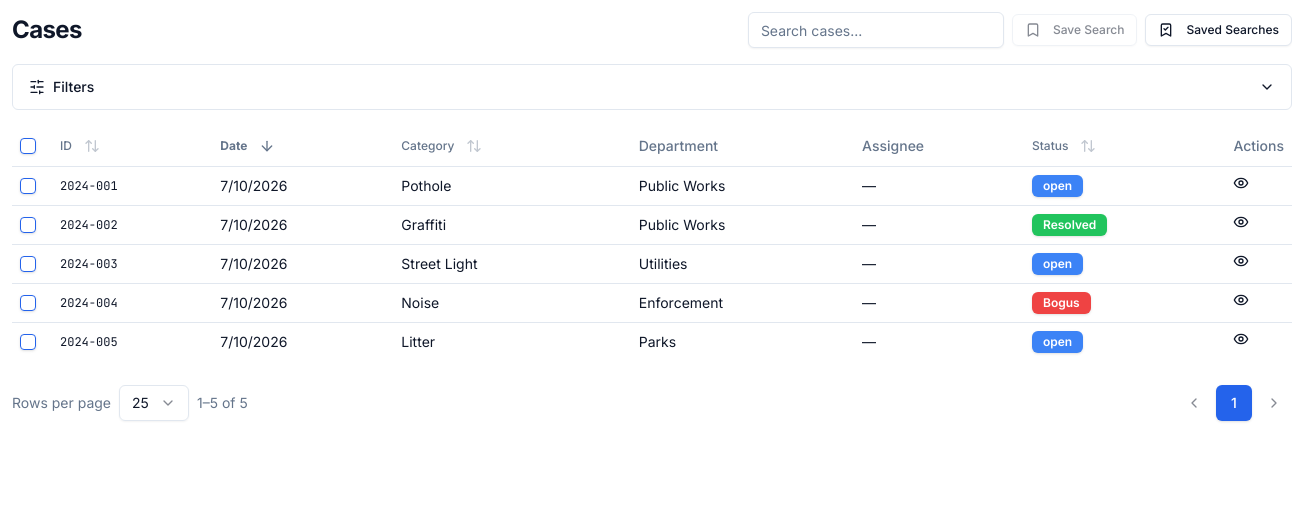
Test case: bulk action bar slides in when rows are selected
Check: the text "2024-001" is shown, box [52,166,212,205]
Note: Select the first data row checkbox (index 1, index 0 is the select-all)
Click the checkbox named "Select case 2024-001".
click(28, 186)  # box [20,178,36,194]
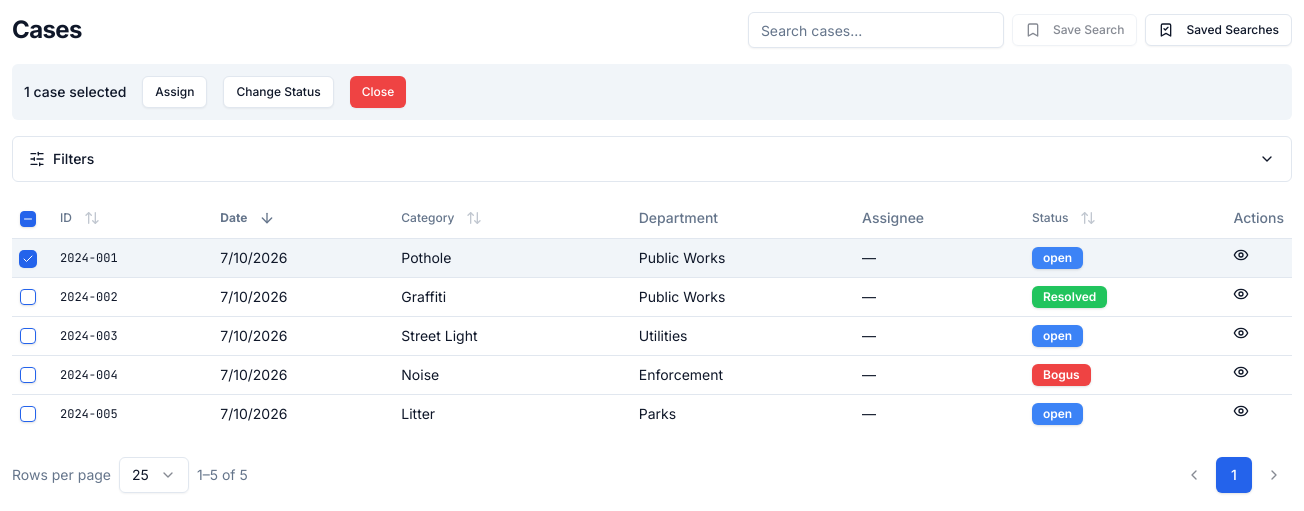
Check: the text "1 case selected" is shown, box [24,82,126,102]
